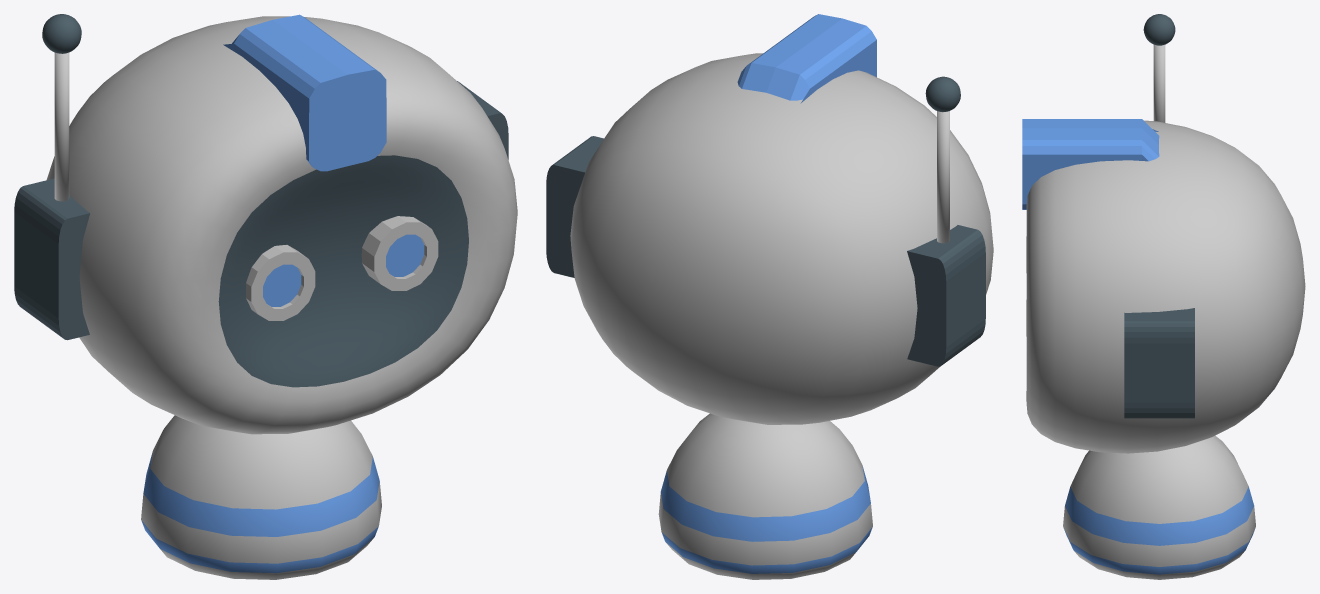
File: robot npc no mlt.fbx
The picture shows the model from 3 angles, left to right: view 1: azimuth 30°, elevation 25°; view 2: azimuth 150°, elevation 25°; view 3: azimuth 270°, elevation 25°; orthographic projection. The views are drawn at different scales.
Parts seen in each view (by area): view 1: kepala, dudukan, jambul, telinga, mata, antena; view 2: kepala, dudukan, telinga, jambul, antena; view 3: kepala, dudukan, telinga, jambul, antena.
Part boxes in pixels (<box>): kepala: <box>46,16,517,434</box>; dudukan: <box>141,415,381,579</box>; jambul: <box>223,14,386,171</box>; telinga: <box>14,81,508,340</box>; mata: <box>246,216,438,320</box>; antena: <box>42,14,81,201</box>; kepala: <box>570,53,993,424</box>; dudukan: <box>658,413,872,579</box>; telinga: <box>546,136,985,366</box>; jambul: <box>737,14,876,103</box>; antena: <box>925,76,960,243</box>; kepala: <box>1026,120,1305,453</box>; dudukan: <box>1063,435,1255,579</box>; telinga: <box>1124,308,1194,418</box>; jambul: <box>1022,119,1159,209</box>; antena: <box>1143,14,1175,122</box>.
Bounding box in the file's own units: 427 × 519 × 293.
